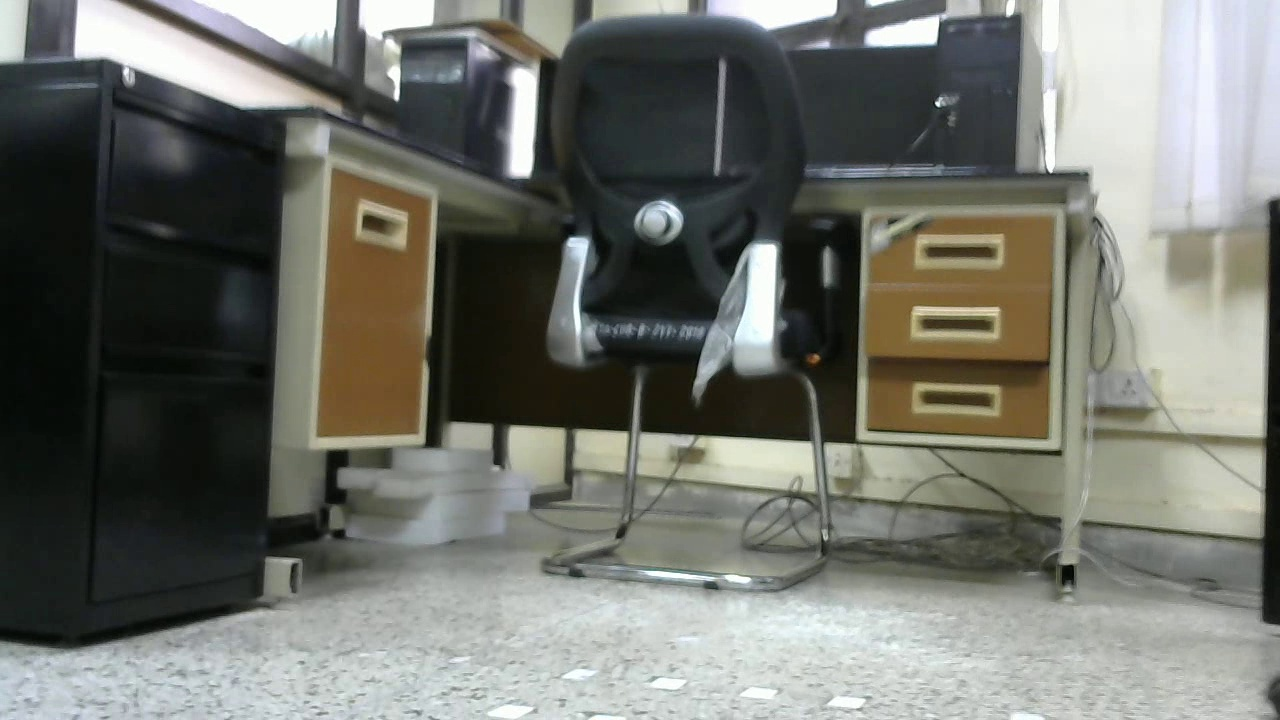chair: (532, 17, 833, 594)
